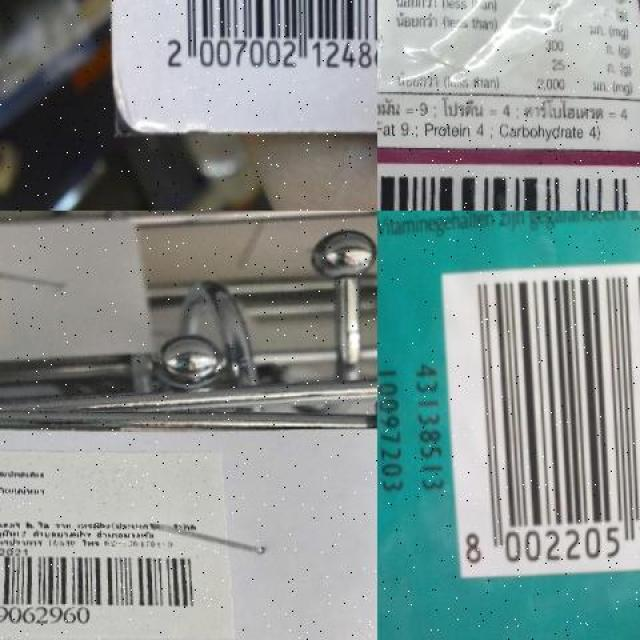Barcode: (436, 258, 640, 582), (148, 0, 377, 103), (0, 548, 209, 624), (377, 162, 640, 210)
